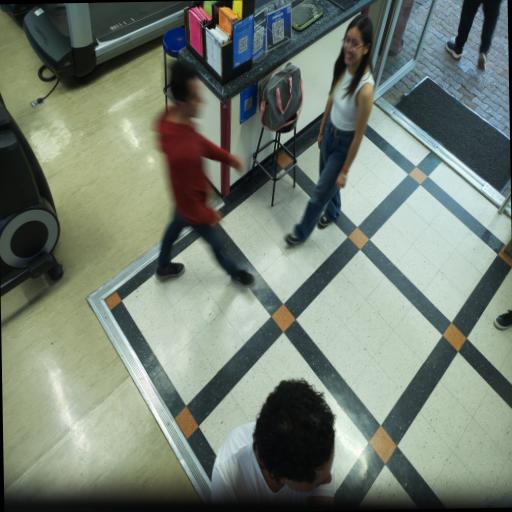person: (155, 61, 253, 286), (285, 15, 373, 245), (211, 380, 333, 505), (445, 0, 501, 70), (493, 311, 511, 330)
